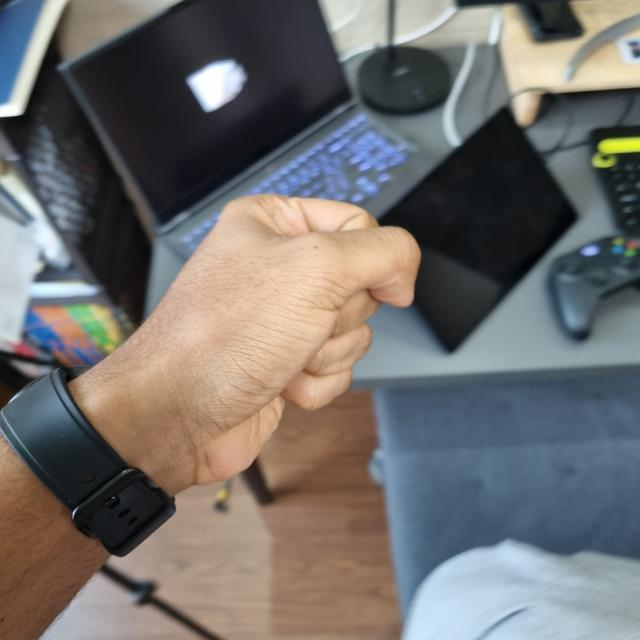Rock: (79, 196, 419, 486)
